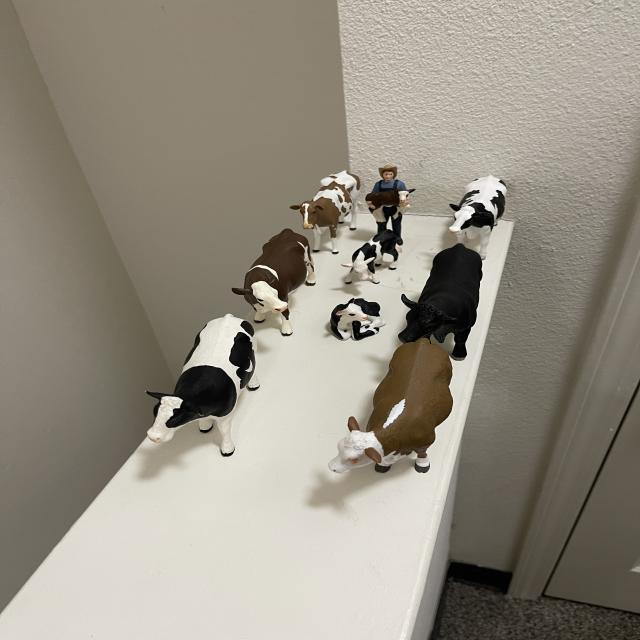cow: (327, 322, 473, 504), (130, 296, 279, 470), (223, 218, 335, 339), (390, 233, 494, 362), (280, 158, 364, 259), (436, 165, 516, 260), (341, 225, 411, 293), (323, 291, 388, 348), (364, 185, 417, 211)
person: (370, 164, 406, 192)
